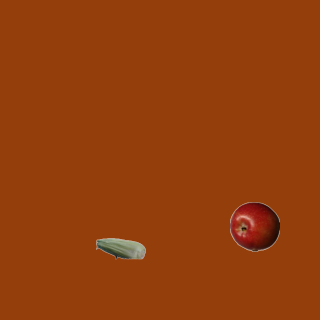Apple Braeburn: (229, 201, 279, 251)
Corn Husk: (95, 223, 145, 273)
